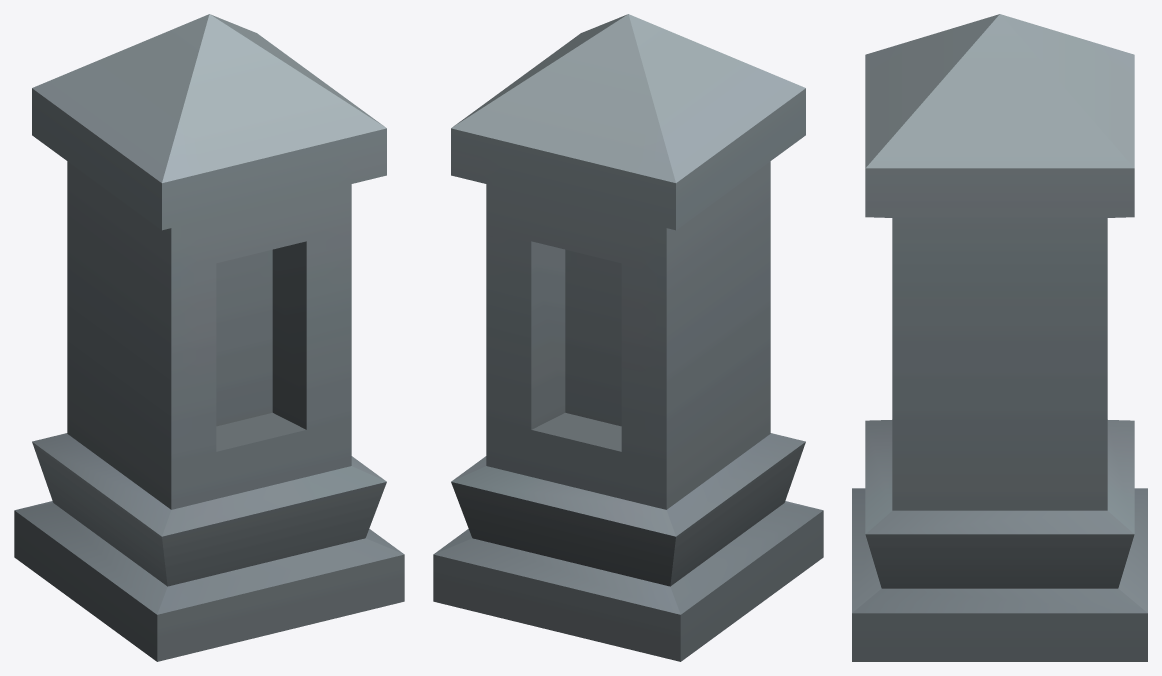
Rendered from shrine.glb.
The picture shows the model from 3 angles, left to right: view 1: azimuth 30°, elevation 25°; view 2: azimuth 150°, elevation 25°; view 3: azimuth 270°, elevation 25°; orthographic projection. The views are drawn at different scales.
Parts seen in each view (by area): view 1: shrine; view 2: shrine; view 3: shrine.
Part boxes in pixels (x1,y1,x2,y2): shrine: (14,14,404,661); shrine: (433,14,823,661); shrine: (852,14,1147,661).
Size of the model in its own units: 1.1 by 2.4 by 1.1.
Materials: 1 (1 with a texture image).
